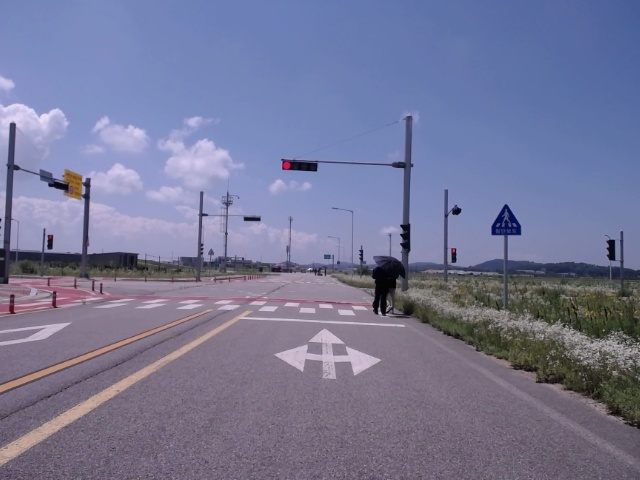red_4: (282, 161, 317, 172)
